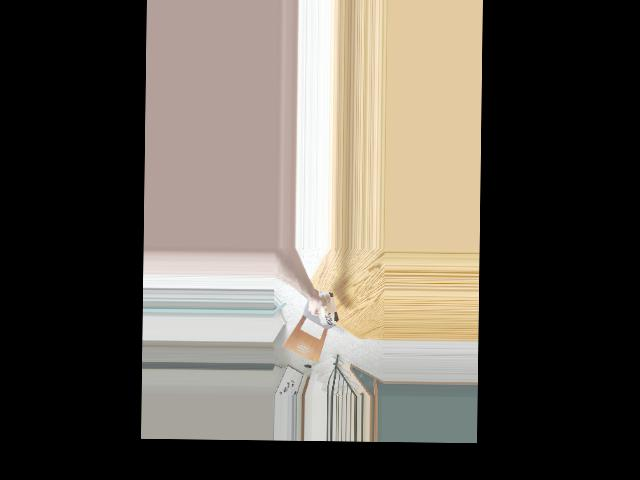cheese: (316, 290, 338, 323)
